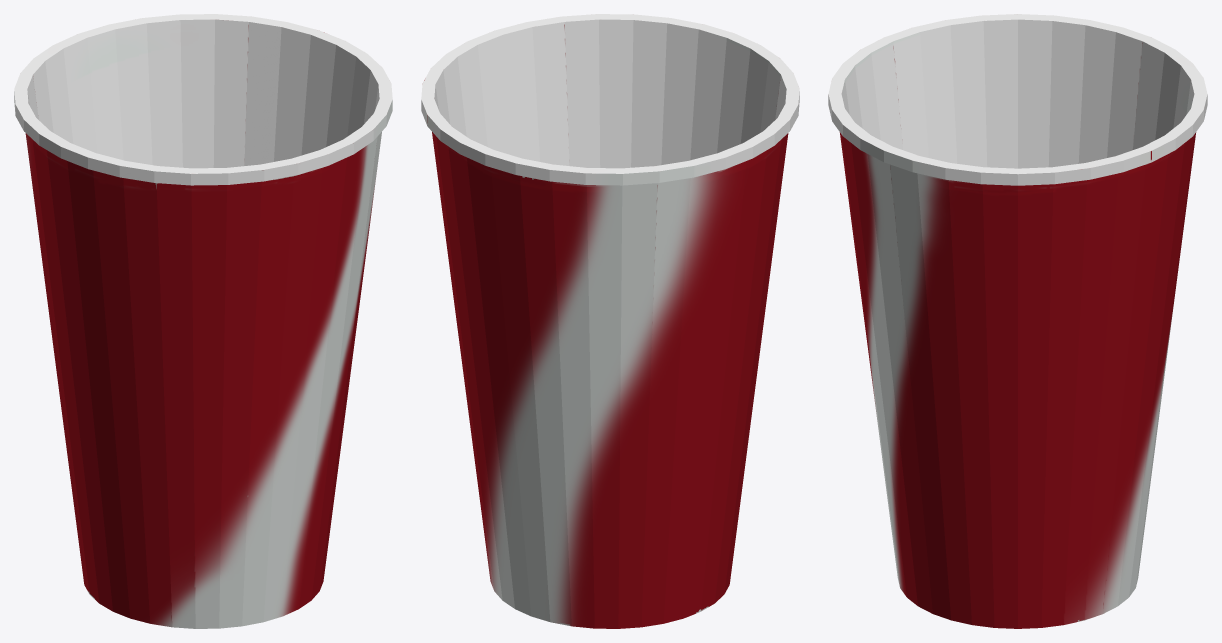
Rendered from Cup.fbx.
3 renders of one model, left to right at view 1: azimuth 30°, elevation 25°; view 2: azimuth 150°, elevation 25°; view 3: azimuth 270°, elevation 25°, orthographic.
Parts seen in each view (by area): view 1: Cylinder; view 2: Cylinder; view 3: Cylinder.
Part boxes in pixels (x1,y1,x2,y2): Cylinder: [14, 14, 392, 628]; Cylinder: [421, 14, 799, 628]; Cylinder: [828, 14, 1207, 628].
Bounding box in the file's own units: 148 × 209 × 148.
